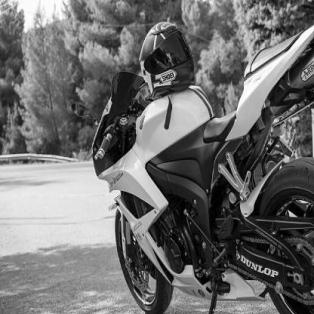Motocicleta: (89, 19, 313, 313)
